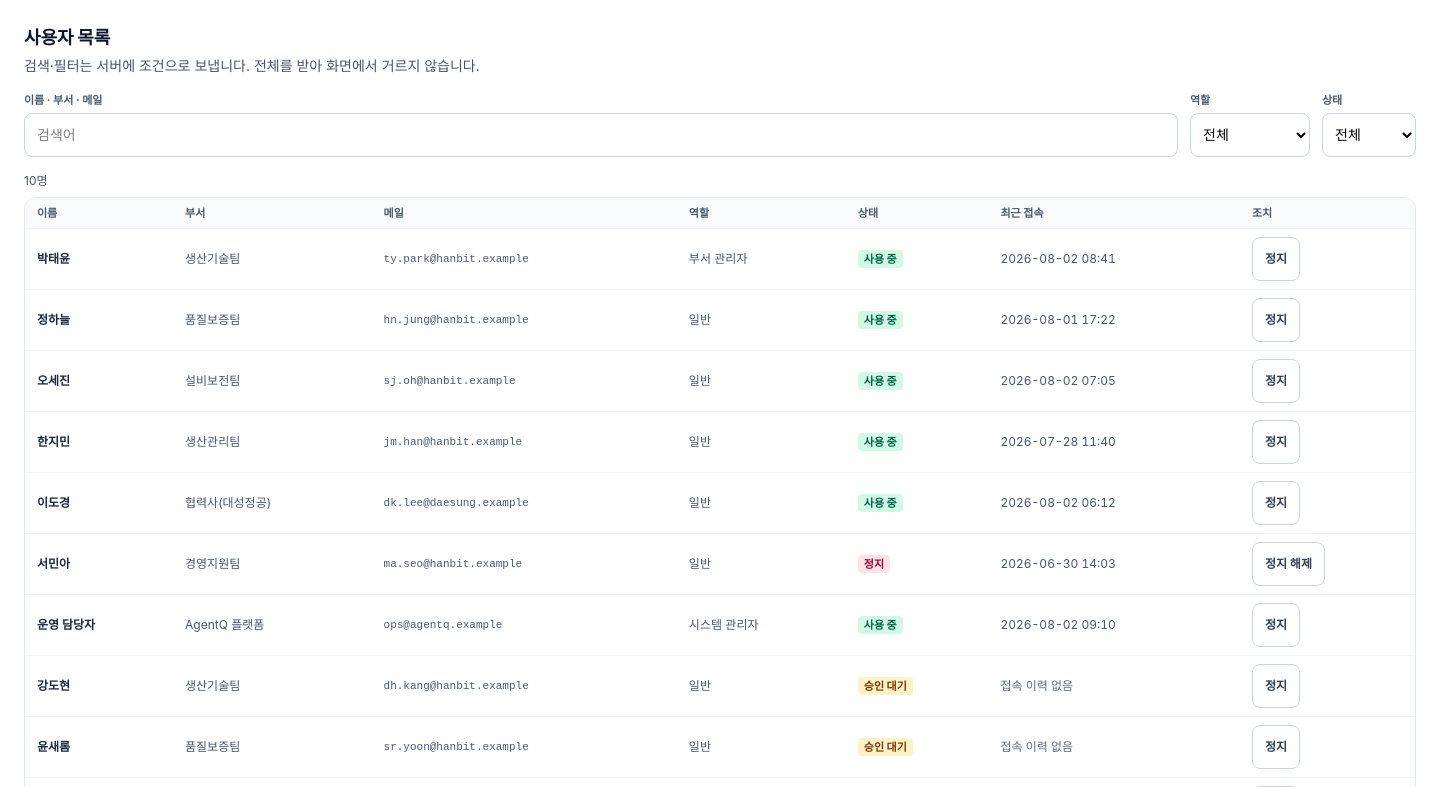
Test: 사용자 목록 › 상태 변경은 성공한 척하지 않고 실패를 알린다
The width and height of the screenshot is (1440, 787).
What coordinates should you click on to do the following:
click the button "정지" in the row of "박태윤"
I would click on:
 (1276, 259)
Its box is x1=1252 y1=237 x2=1300 y2=281.
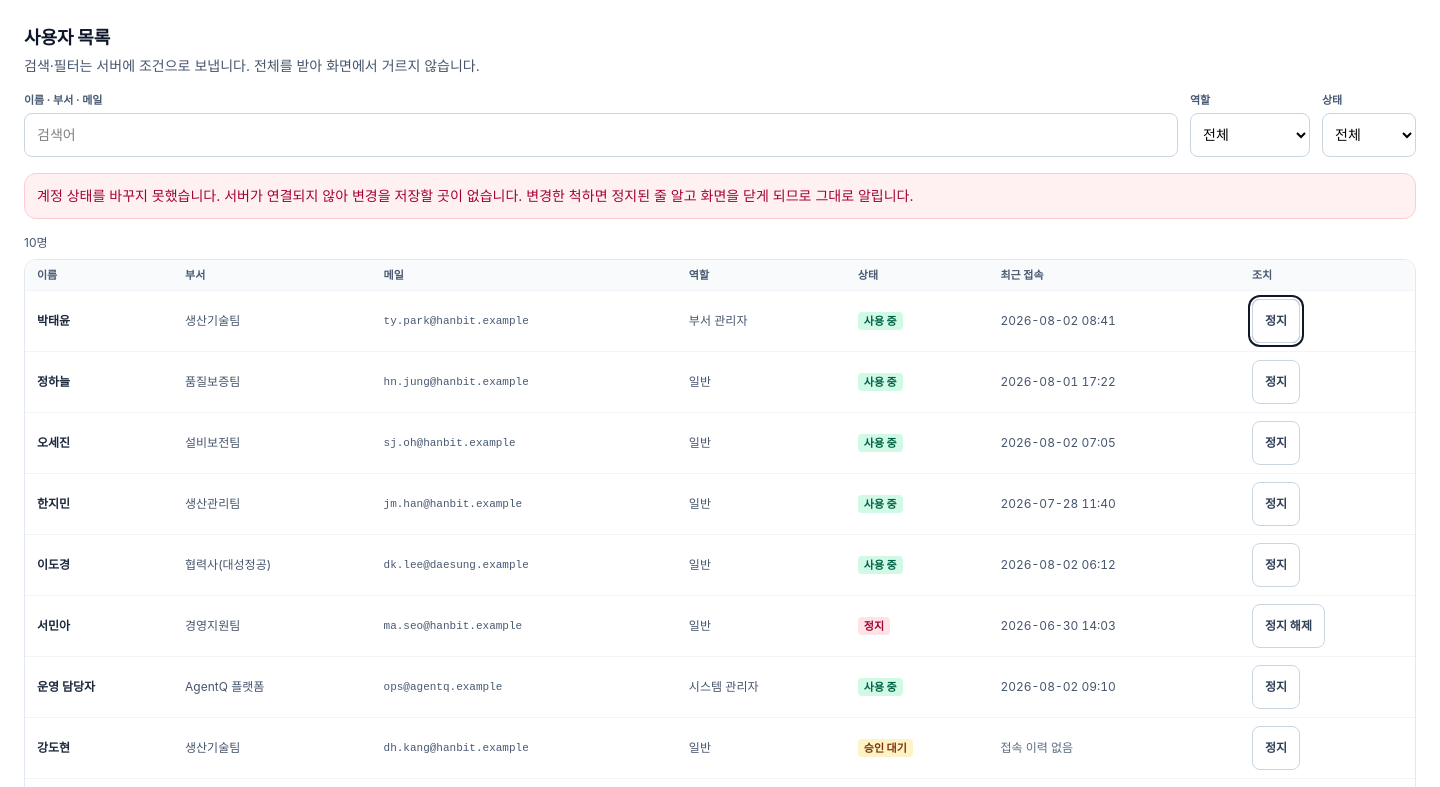
Now the message shows "서버가 연결되지 않아 변경을 저장할 곳이 없습니다", box x1=37 y1=186 x2=914 y2=204
